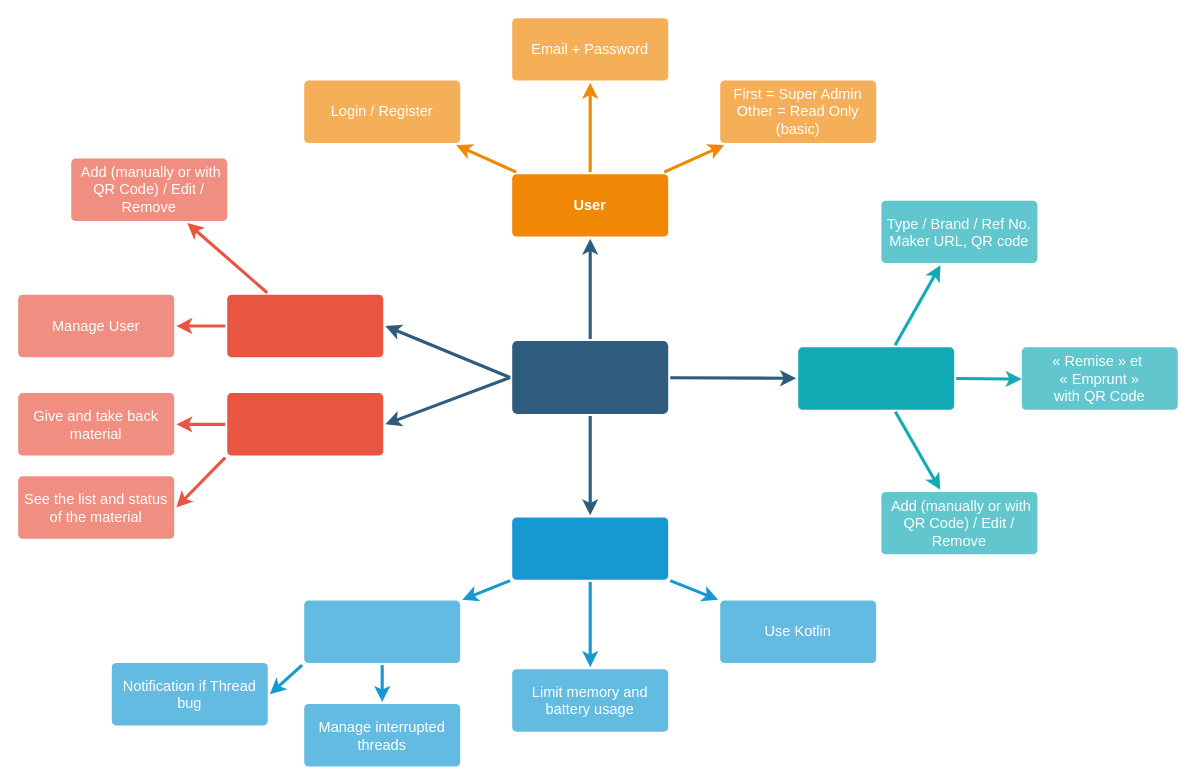
The diagram is 1195 pixels wide and 784 high, and some of its shapes have lost their labels. The centre of each missing label's shape, as x and y in pixels:
"Have to do" goes at (590,548).
"Material" goes at (876,378).
"MKRManagement" goes at (590,377).
"Super Admin" goes at (305,325).
"Super Admin and other (Basic)" goes at (305,424).
"Use Thread" goes at (382,631).
